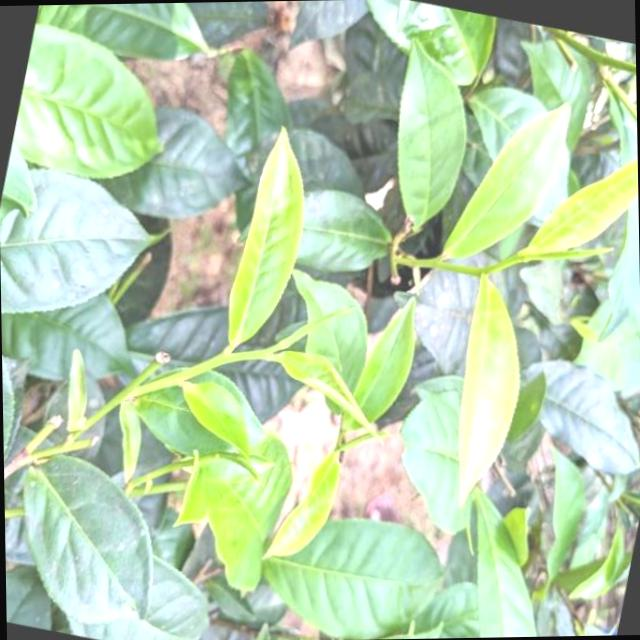Stem: (250, 347, 267, 359), (465, 266, 480, 276)
